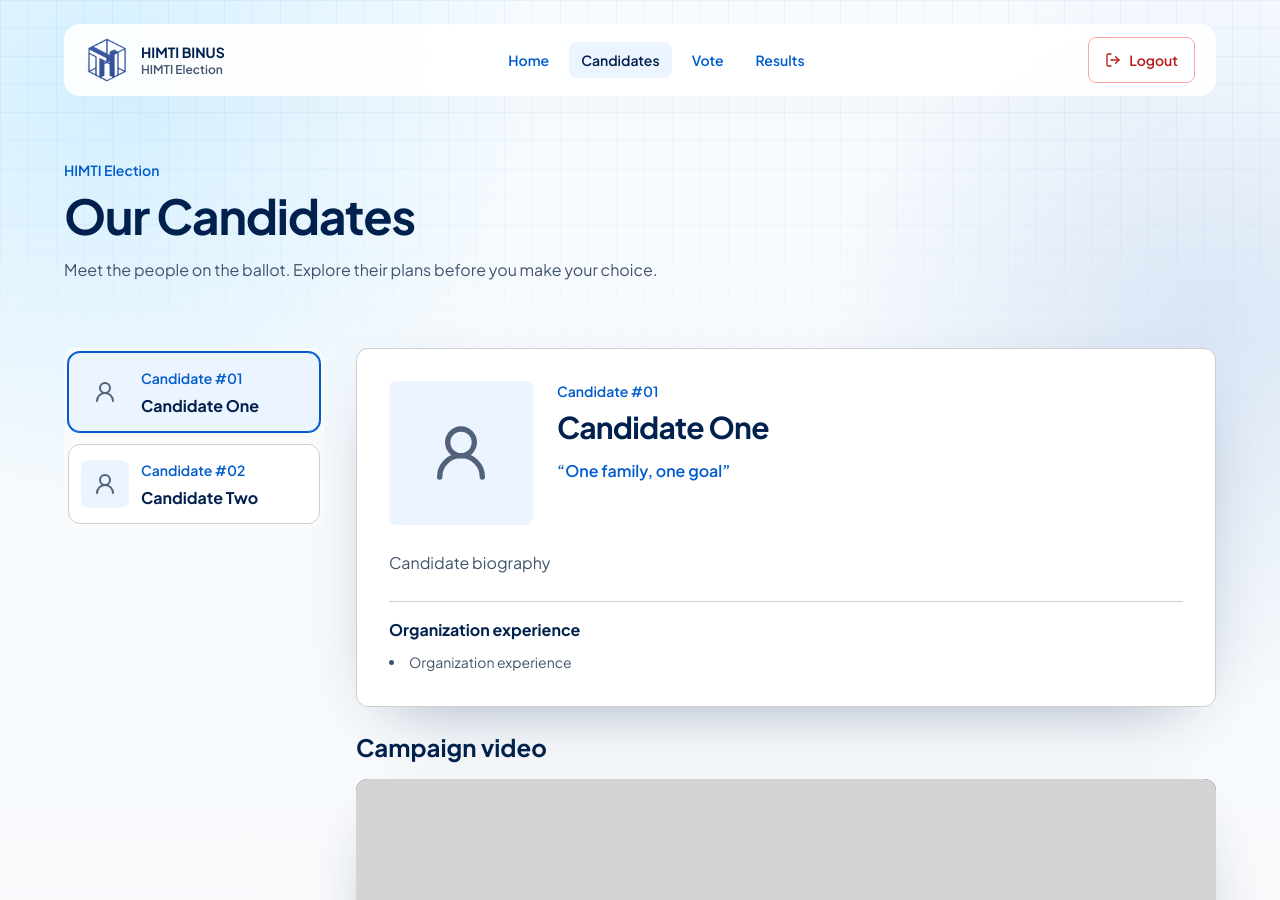
Scenario: candidate selection updates the profile, video, and vote target
Click the button "Candidate #02 Candidate Two". click: (194, 484)
box: [68,444,320,524]
(page scrolled)
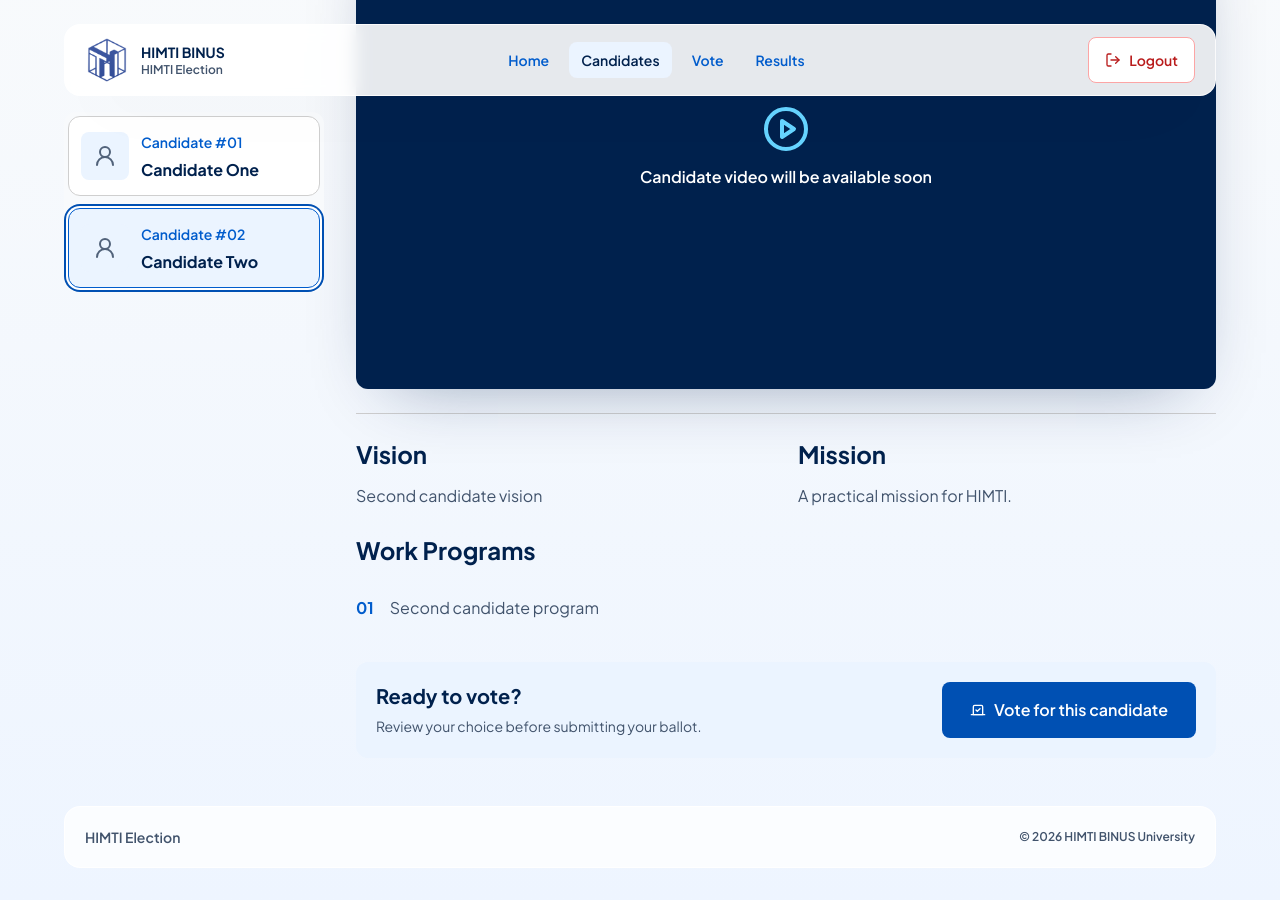
Expected: the element named "Candidate Two profile" shows "Second candidate vision", [356,485,542,506]
Expected: the element named "Candidate Two profile" shows "Second candidate program", [390,597,599,618]
Expected: the text "Candidate video will be available soon" is shown, [640,165,932,189]
